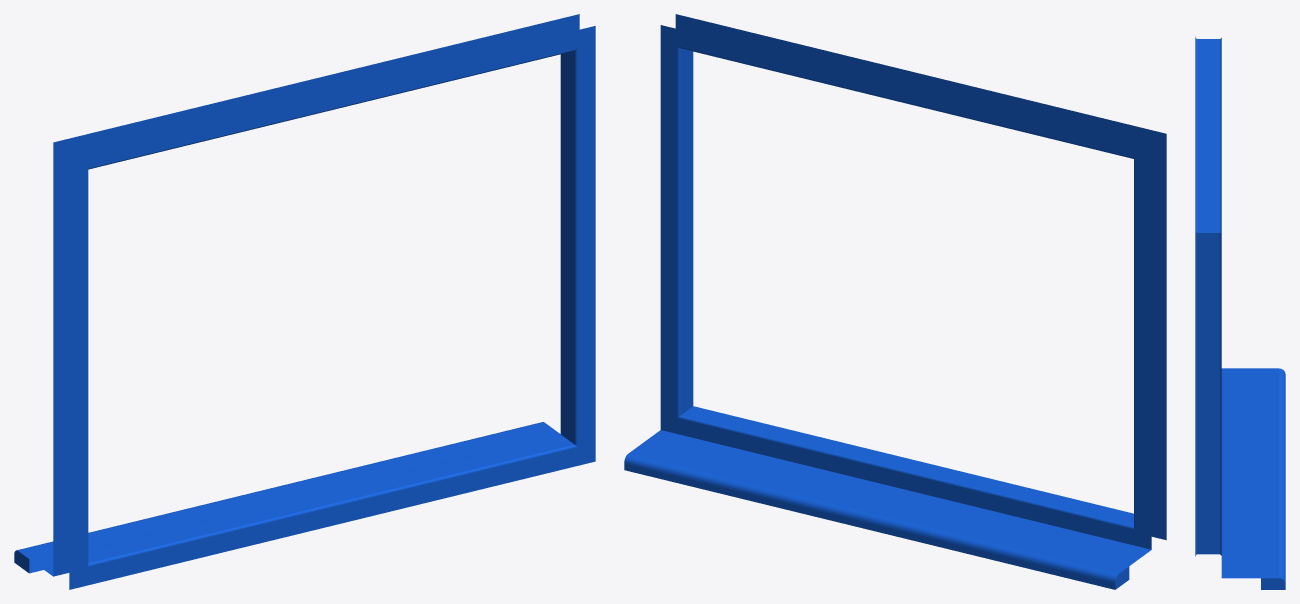
Rendered from Window_Frame.fbx.
3 renders of one model, left to right at view 1: azimuth 30°, elevation 25°; view 2: azimuth 150°, elevation 25°; view 3: azimuth 270°, elevation 25°, orthographic. The views are drawn at different scales.
Visible parts, largest first — view 1: Window_Frame; view 2: Window_Frame; view 3: Window_Frame.
Part boxes in pixels (x1,y1,x2,y2): Window_Frame: [14, 14, 595, 589]; Window_Frame: [624, 14, 1166, 589]; Window_Frame: [1195, 36, 1285, 589].
Size of the model in its own units: 18966 by 15443 by 3440.
